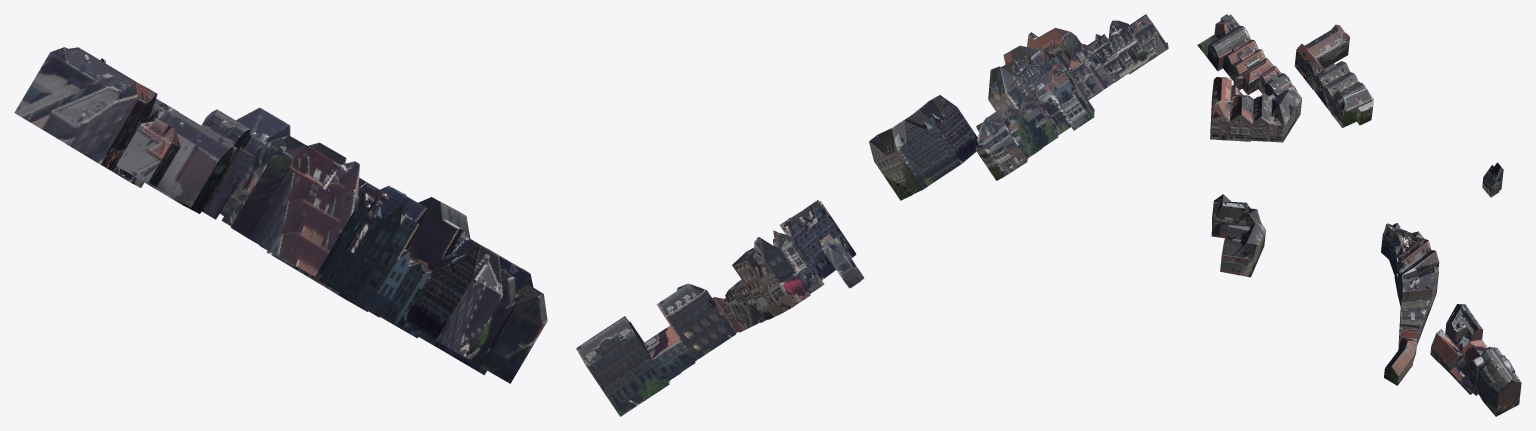
3 renders of one model, left to right at view 1: azimuth 30°, elevation 25°; view 2: azimuth 150°, elevation 25°; view 3: azimuth 270°, elevation 25°, orthographic. The views are drawn at different scales.
Visible parts, largest first — view 1: BAG_0599100000760364, BAG_0599100000187001, BAG_0599100000671659, BAG_0599100000241229, BAG_0599100000760482, BAG_0599100000650095, BAG_0599100000631933, BAG_0599100000631914, BAG_0599100000650101, BAG_0599100000687482, BAG_0599100000760483, BAG_0599100000631850 (+10 smaller); view 2: BAG_0599100000631914, BAG_0599100000671659, BAG_0599100000631869, BAG_0599100000187001, BAG_0599100000631930, BAG_0599100000650077, BAG_0599100000631850, BAG_0599100000671566, BAG_0599100000687482, BAG_0599100000760483, BAG_0599100000241229, BAG_0599100000631933 (+14 smaller); view 3: BAG_0599100000631914, BAG_0599100000187001, BAG_0599100000650077, BAG_0599100000760482, BAG_0599100000671566, BAG_0599100000671659, BAG_0599100000760364, BAG_0599100000760363, BAG_0599100000631869, BAG_0599100000631930, BAG_0599100000687484, BAG_0599100000241229 (+18 smaller).
Part boxes in pixels (<box>): BAG_0599100000760364: <box>231,145,359,276</box>; BAG_0599100000187001: <box>14,47,157,172</box>; BAG_0599100000671659: <box>403,236,502,357</box>; BAG_0599100000241229: <box>157,108,233,213</box>; BAG_0599100000760482: <box>469,264,547,383</box>; BAG_0599100000650095: <box>116,118,190,208</box>; BAG_0599100000631933: <box>259,185,384,292</box>; BAG_0599100000631914: <box>411,197,470,270</box>; BAG_0599100000650101: <box>201,109,255,215</box>; BAG_0599100000687482: <box>354,214,419,311</box>; BAG_0599100000760483: <box>466,248,515,364</box>; BAG_0599100000631850: <box>267,178,401,298</box>; BAG_0599100000631914: <box>576,316,669,416</box>; BAG_0599100000671659: <box>899,95,978,185</box>; BAG_0599100000631869: <box>656,283,735,361</box>; BAG_0599100000187001: <box>1036,63,1094,134</box>; BAG_0599100000631930: <box>779,200,856,279</box>; BAG_0599100000650077: <box>975,111,1027,180</box>; BAG_0599100000631850: <box>757,237,810,305</box>; BAG_0599100000671566: <box>988,66,1031,117</box>; BAG_0599100000687482: <box>732,247,782,319</box>; BAG_0599100000760483: <box>883,123,927,194</box>; BAG_0599100000241229: <box>1108,20,1149,74</box>; BAG_0599100000631933: <box>773,230,824,293</box>; BAG_0599100000631914: <box>1469,347,1521,416</box>; BAG_0599100000187001: <box>1294,24,1349,89</box>; BAG_0599100000650077: <box>1330,82,1373,127</box>; BAG_0599100000760482: <box>1220,235,1259,277</box>; BAG_0599100000671566: <box>1269,85,1302,142</box>; BAG_0599100000671659: <box>1211,194,1262,238</box>; BAG_0599100000760364: <box>1210,77,1231,140</box>; BAG_0599100000760363: <box>1228,85,1253,141</box>; BAG_0599100000631869: <box>1445,304,1482,352</box>; BAG_0599100000631930: <box>1381,223,1424,274</box>; BAG_0599100000687484: <box>1384,336,1416,385</box>; BAG_0599100000241229: <box>1207,25,1250,71</box>.
Bounding box in the file's own units: 123 × 102 × 110.
Materials: 2 (1 with a texture image).
